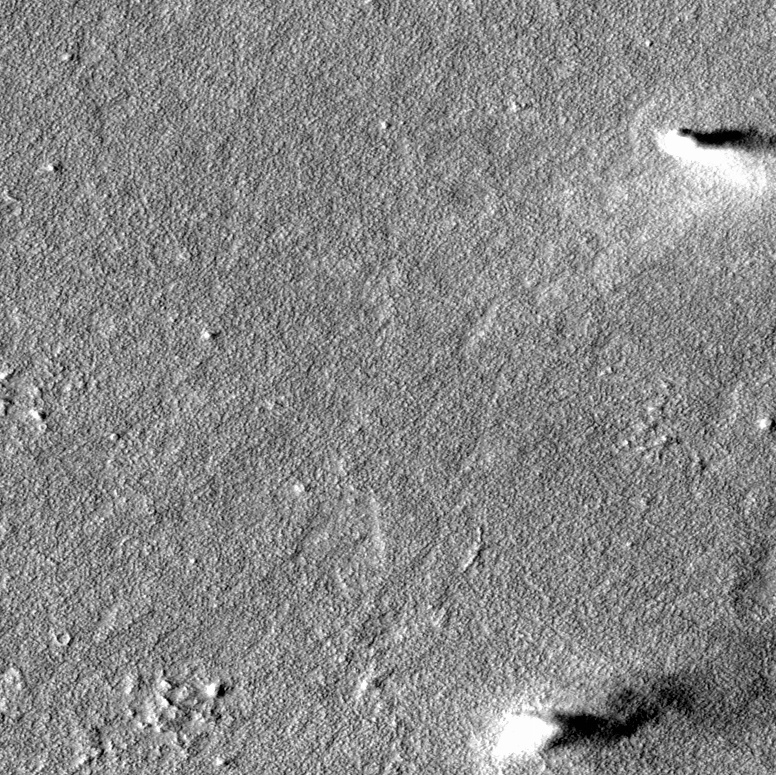dust_devil: (470, 668, 706, 769), (655, 124, 776, 197)
